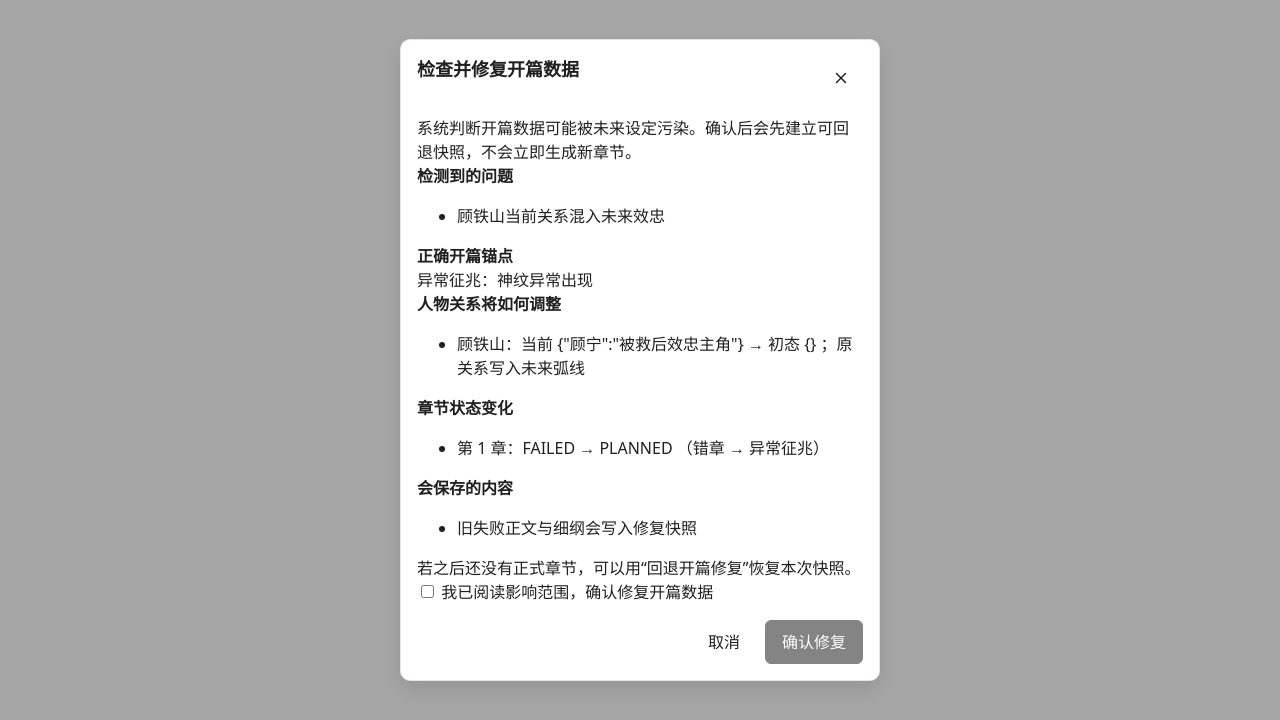
OpeningRepairDialog › shows impact and requires explicit confirmation
This screenshot has width=1280, height=720.
Expected: the button "确认修复" is disabled, [765,620,863,664]
Click the checkbox labelled "我已阅读影响范围，确认修复开篇数据".
click(428, 592)  # box [421,585,434,598]
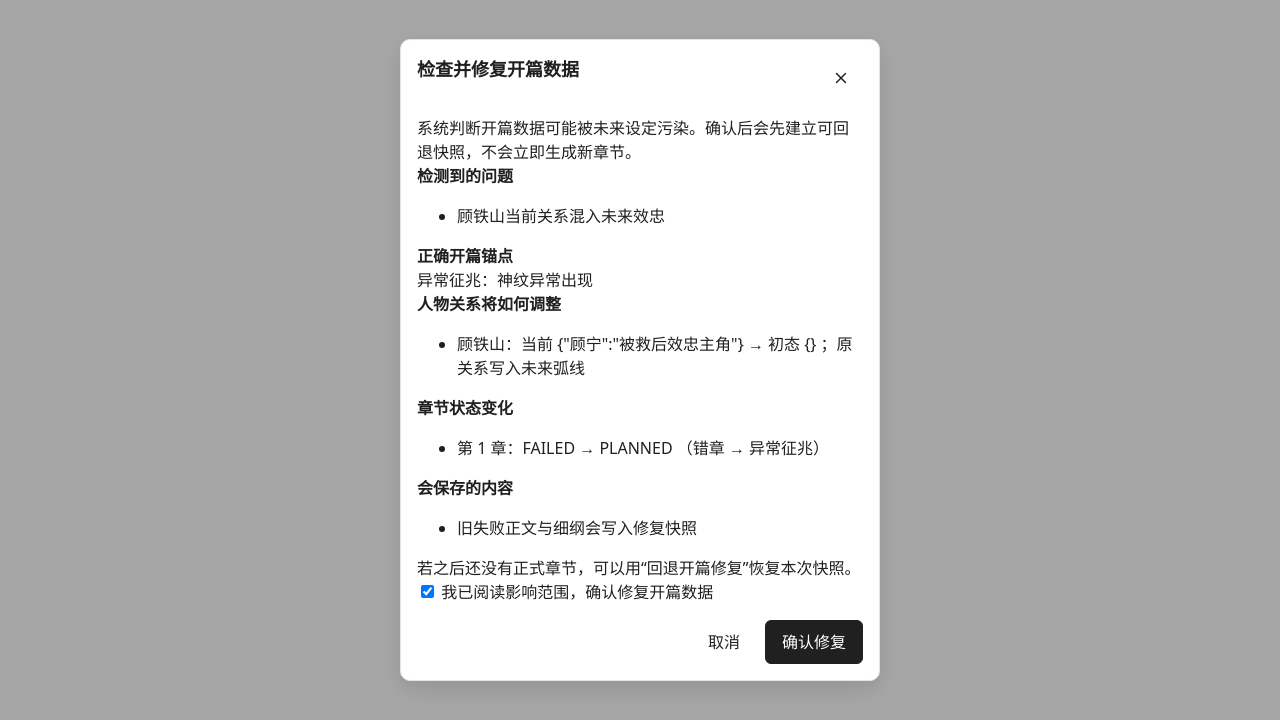
Result: the button "确认修复" is enabled at [765,620,863,664]
